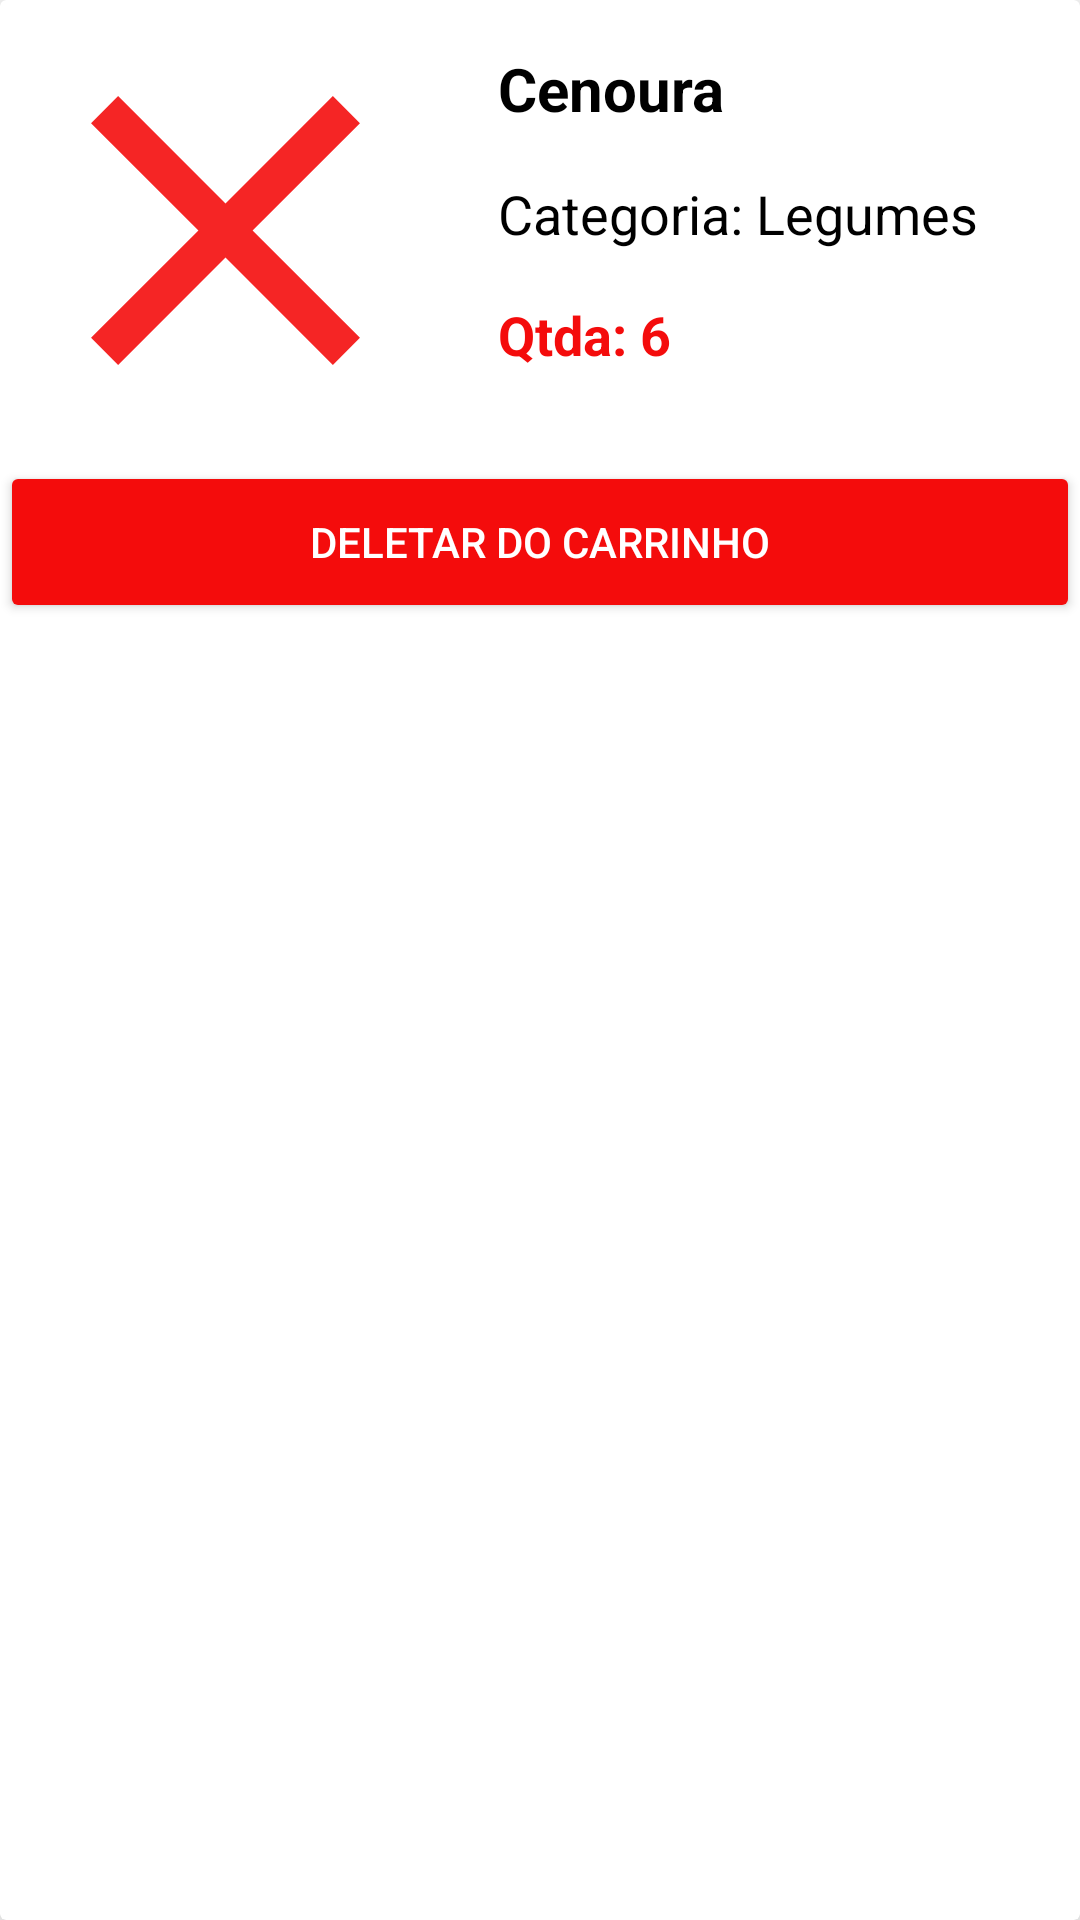

Locate icon controls on the screen. Image size 1080px×1920px, boxes as (x1, y1, x2, y2).
close: (91, 96, 360, 365)
